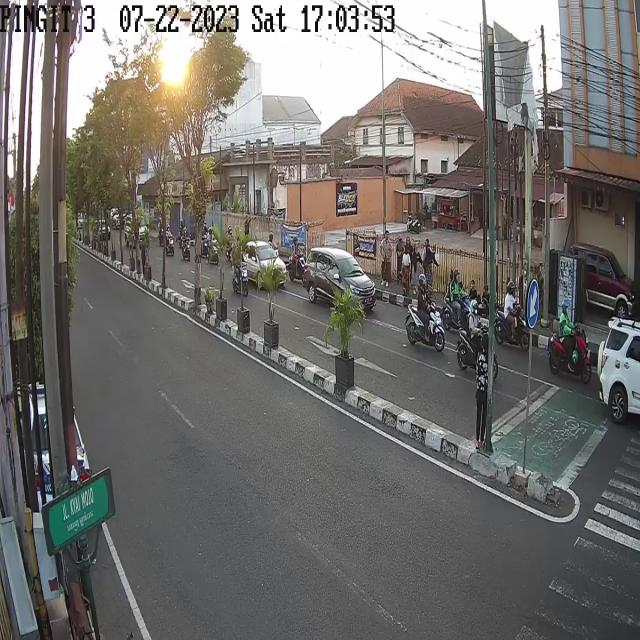car: (595, 315, 640, 428), (572, 244, 636, 320), (310, 249, 378, 310), (240, 239, 287, 292), (125, 214, 148, 251)
motorcycle: (406, 274, 448, 350), (548, 314, 594, 382), (461, 296, 496, 384), (500, 274, 528, 350), (286, 236, 308, 276), (232, 251, 248, 298), (207, 226, 218, 267), (181, 227, 192, 263), (227, 226, 236, 265), (165, 222, 175, 256), (407, 217, 422, 233)
